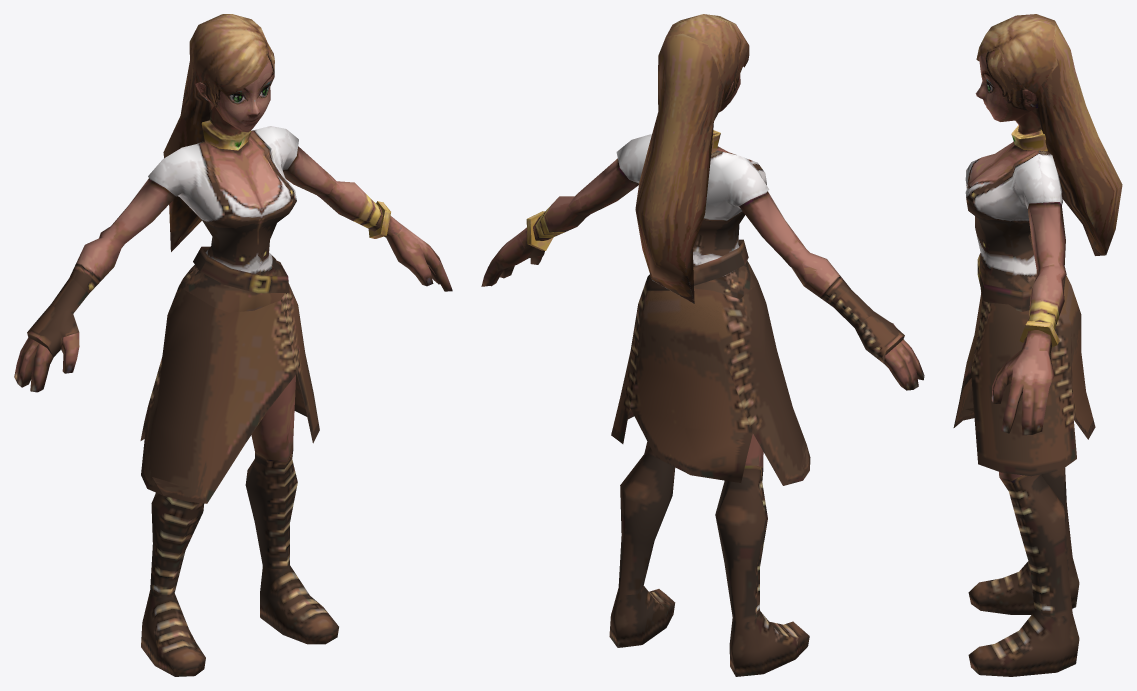
File: npc_town_female_01_b5920ce2.glb
The picture shows the model from 3 angles, left to right: view 1: azimuth 30°, elevation 25°; view 2: azimuth 150°, elevation 25°; view 3: azimuth 270°, elevation 25°; orthographic projection.
Bounding box in the file's own units: 1.32 × 1.84 × 0.4572.
1 material, 1 textured.
